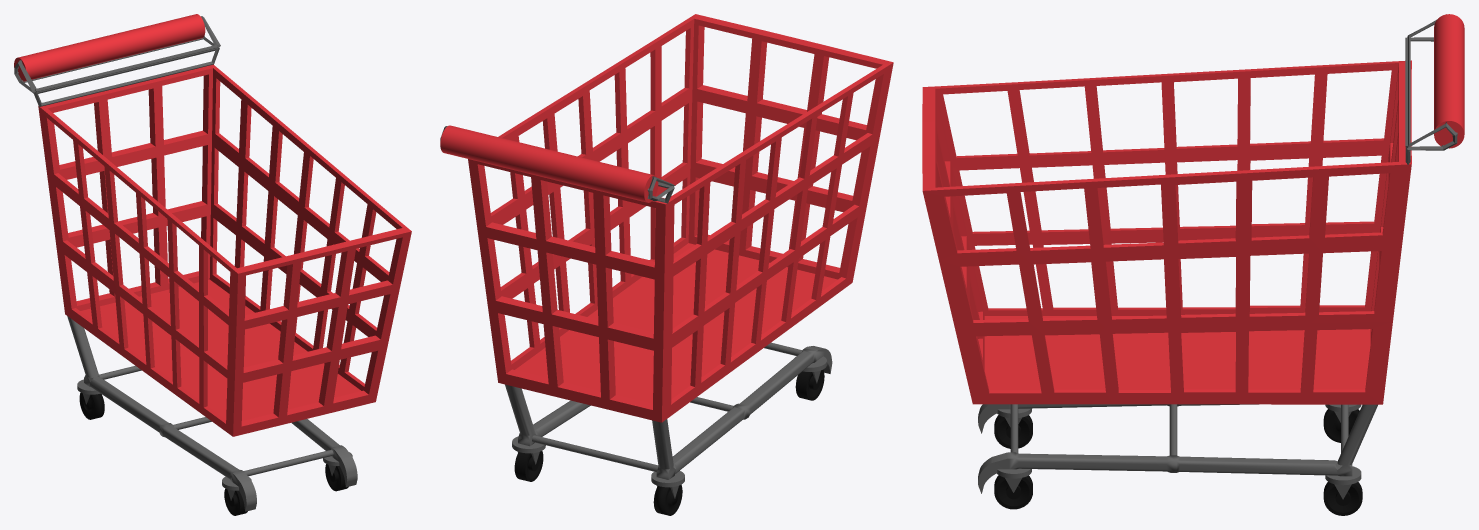
Rendered from TROLI BELANJA.fbx.
The picture shows the model from 3 angles, left to right: view 1: azimuth 30°, elevation 25°; view 2: azimuth 150°, elevation 25°; view 3: azimuth 270°, elevation 25°; orthographic projection. The views are drawn at different scales.
Visible parts, largest first — view 1: Cube.032; view 2: Cube.032; view 3: Cube.032.
Part boxes in pixels (bbox=[...]): Cube.032: bbox=[14, 14, 411, 515]; Cube.032: bbox=[440, 14, 893, 515]; Cube.032: bbox=[922, 14, 1464, 515].
Size of the model in its own units: 159 by 269 by 323.
